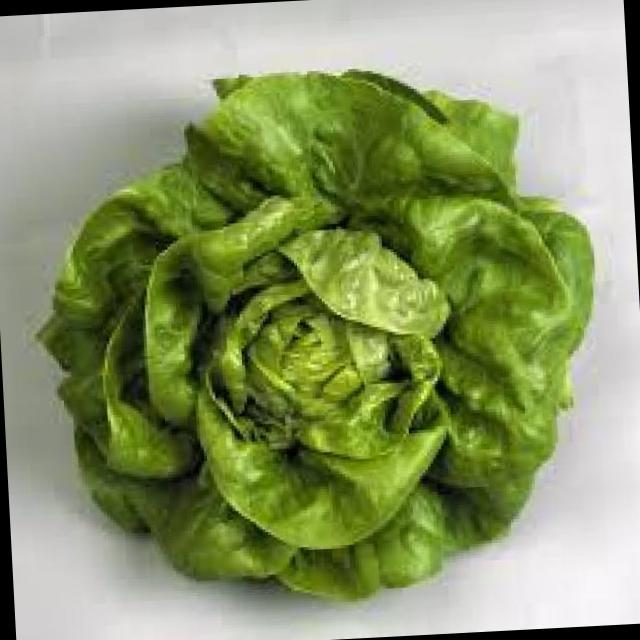Lettuce-Ready-to-Harvest: (39, 70, 592, 598)
